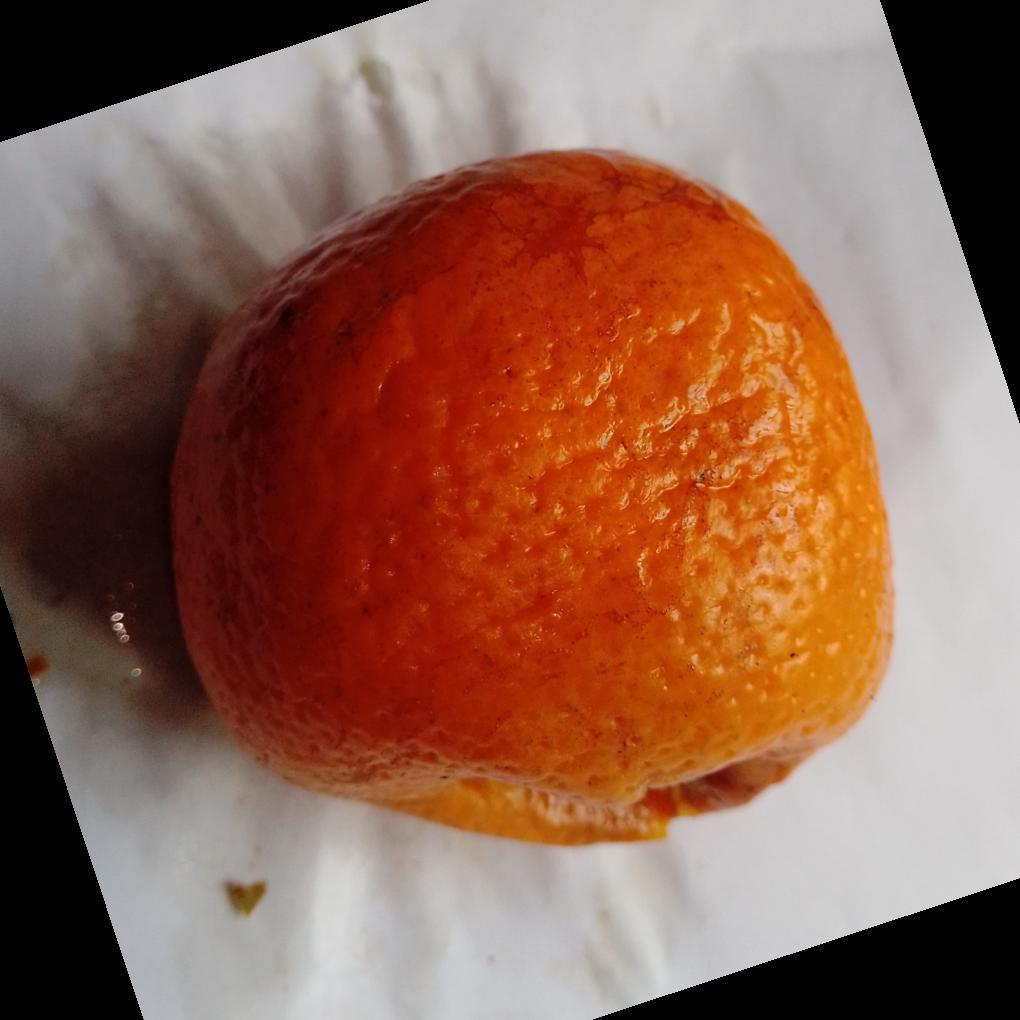FreshOrange: (165, 148, 896, 852)
